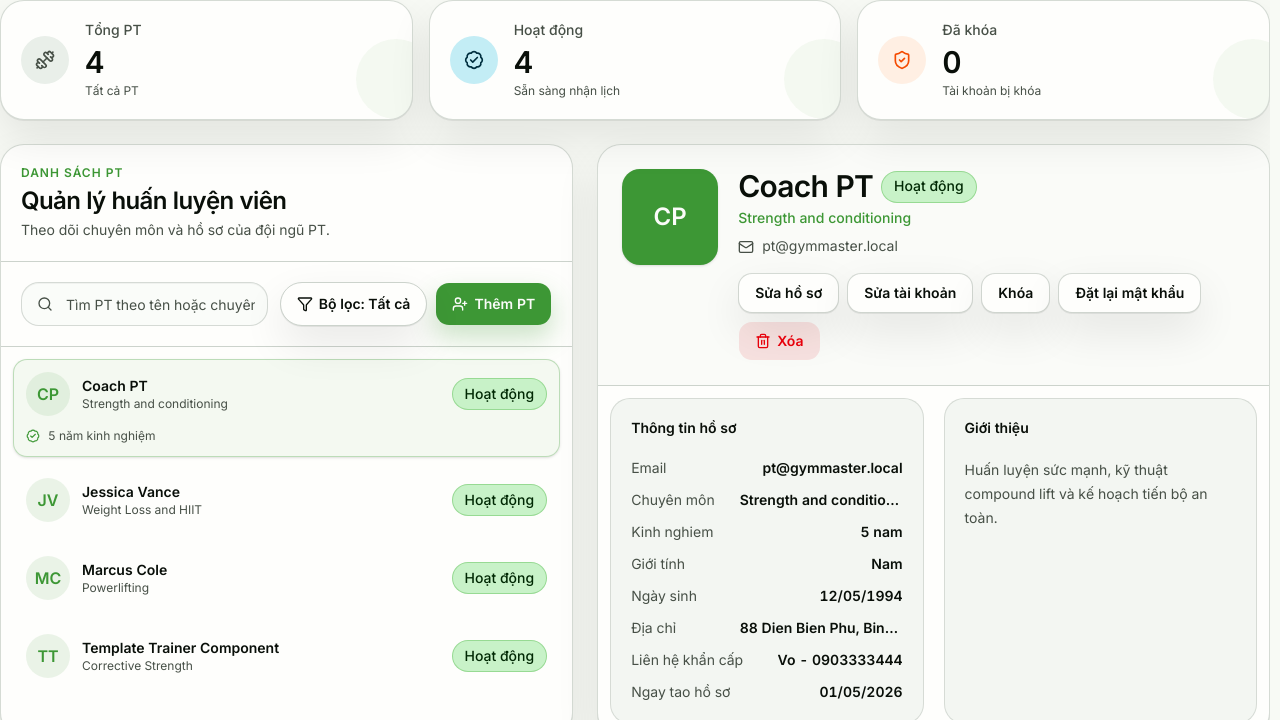
ManagementWorkspace › lets admin edit trainer profile, reset password, and lock the trainer account
Expected: the text "Coach PT" is shown, [82,377,148,394]
Click the button with test id "trainer-edit-open" at (789, 293), box [738,273,839,313]
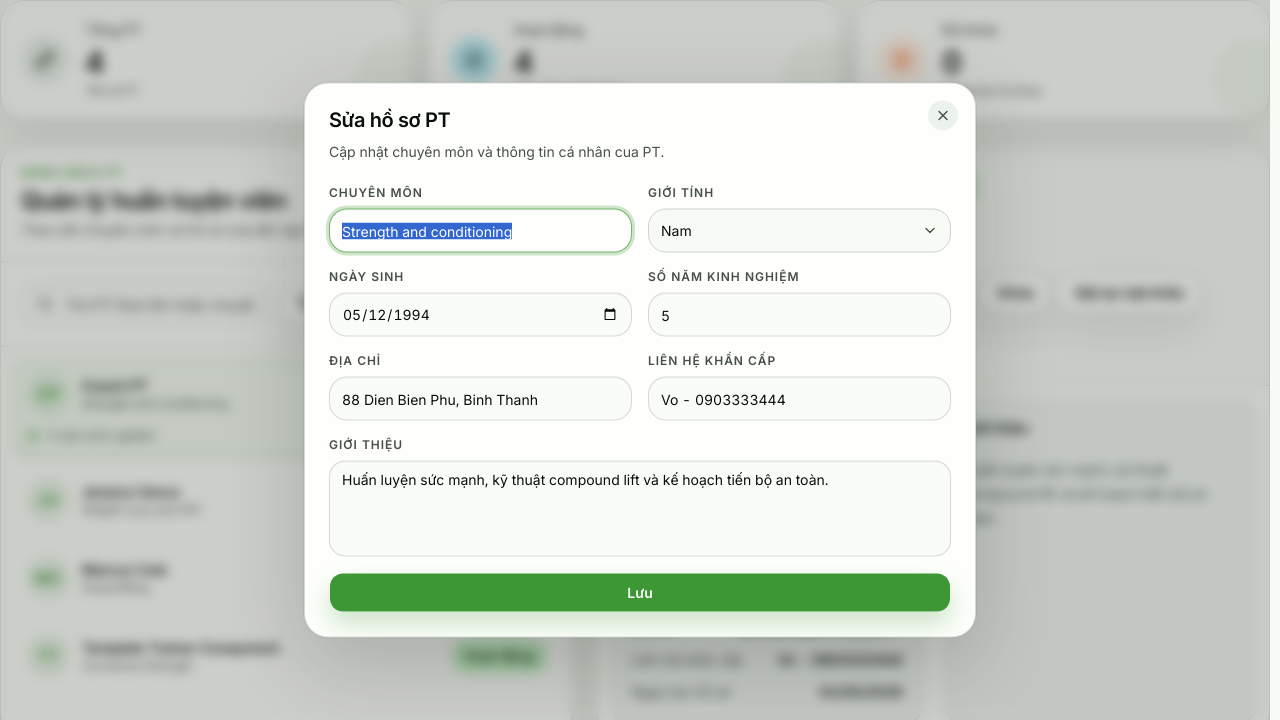
Replace the text in the field with test id "trainer-edit-specialty" with "Power Mobility" at (480, 230), box [329,208,632,252]
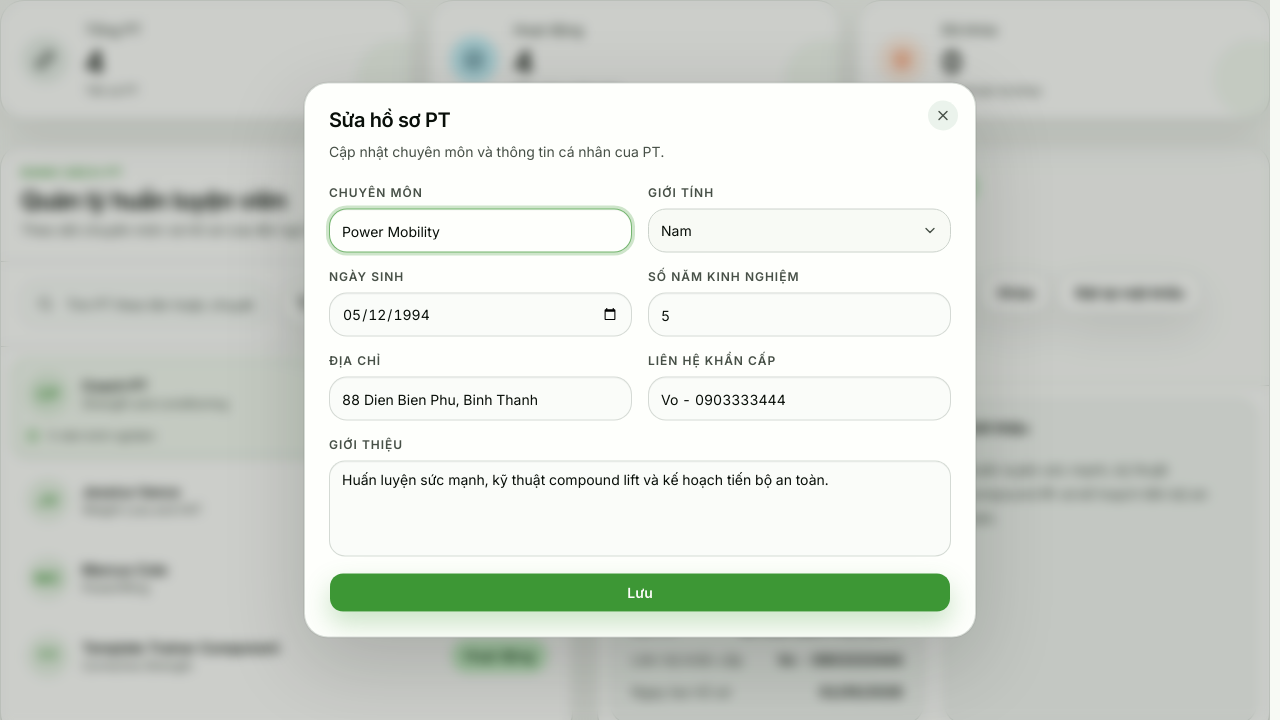
Click the button with test id "trainer-edit-submit" at (640, 592), box [329,572,951,612]
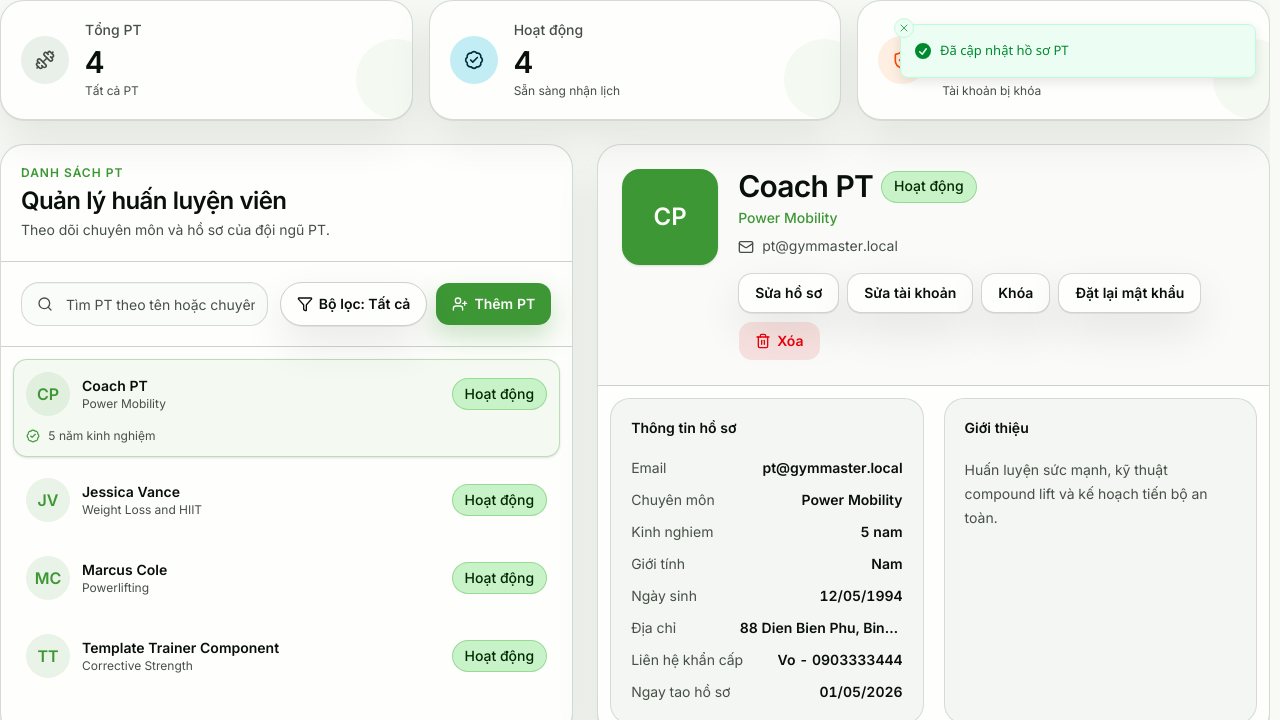
Result: the text "Power Mobility" below "Quản lý huấn luyện viên" is shown at [82,396,166,411]
Click the button "Đặt lại mật khẩu" at (1130, 293), box [1058,273,1201,313]
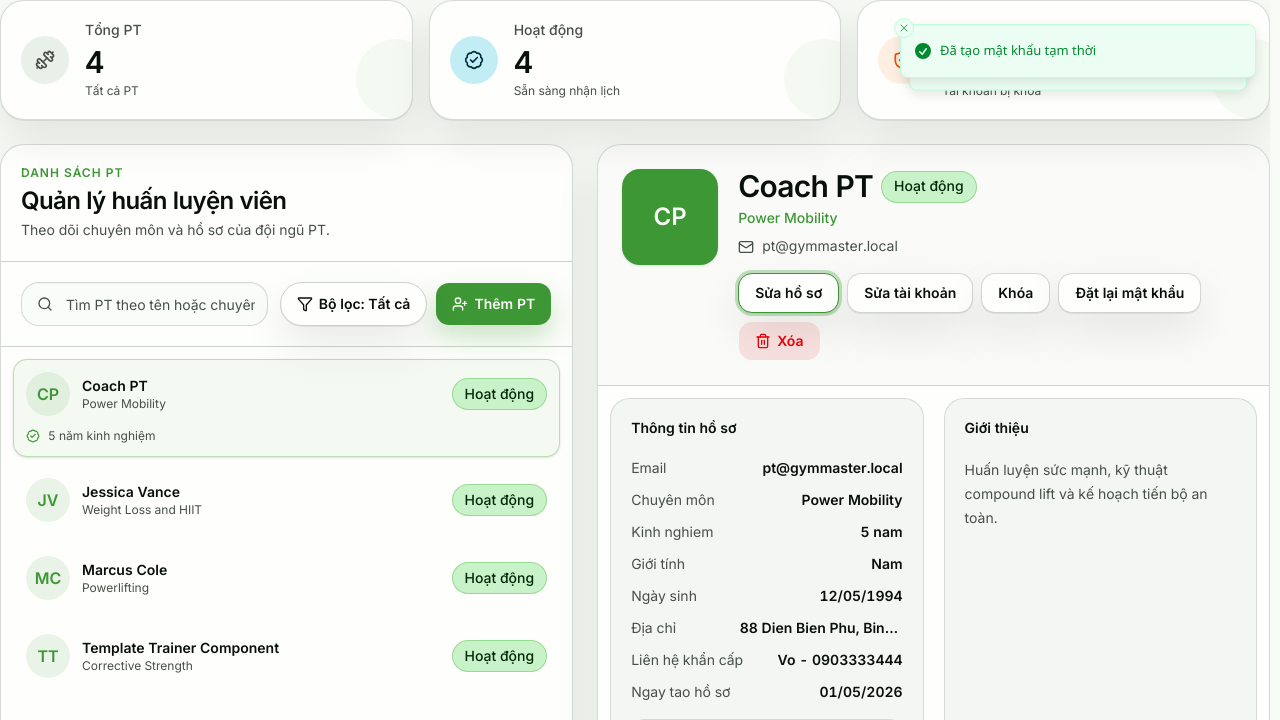
Click the button "Khóa" at (1016, 293), box [981,273,1050,313]
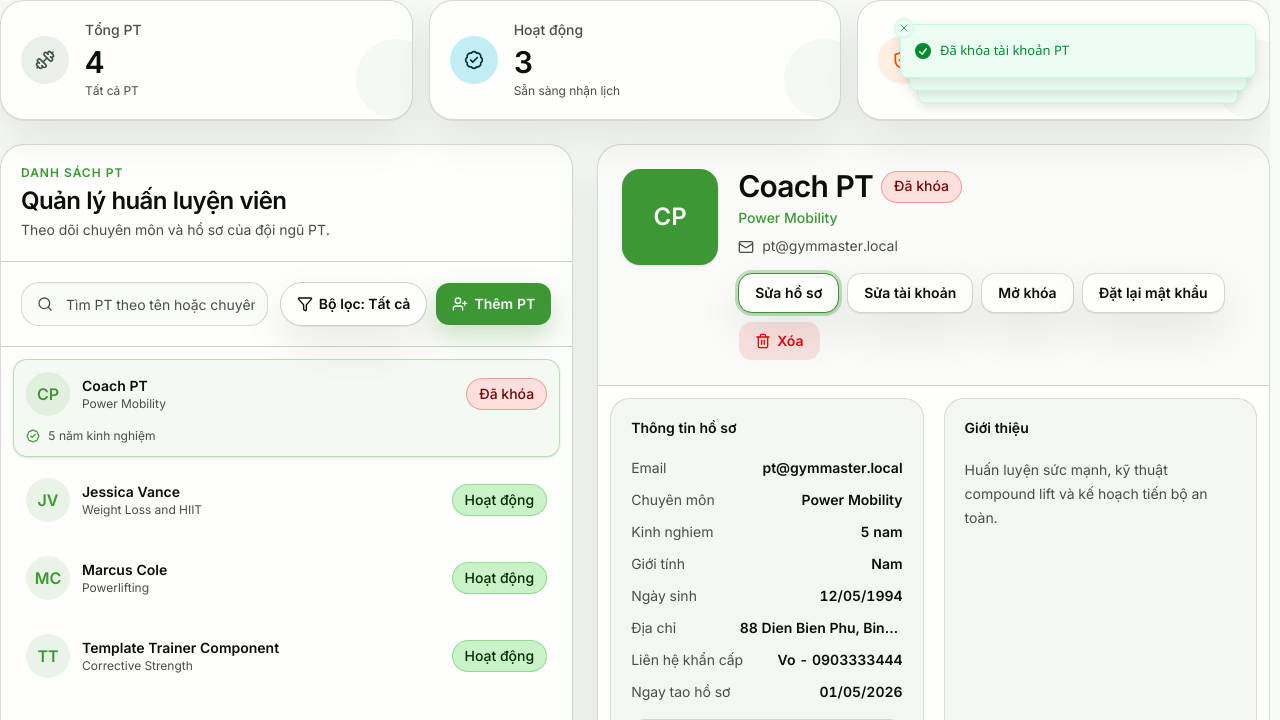
Result: the button "Mở khóa" is shown at [981,273,1074,313]
